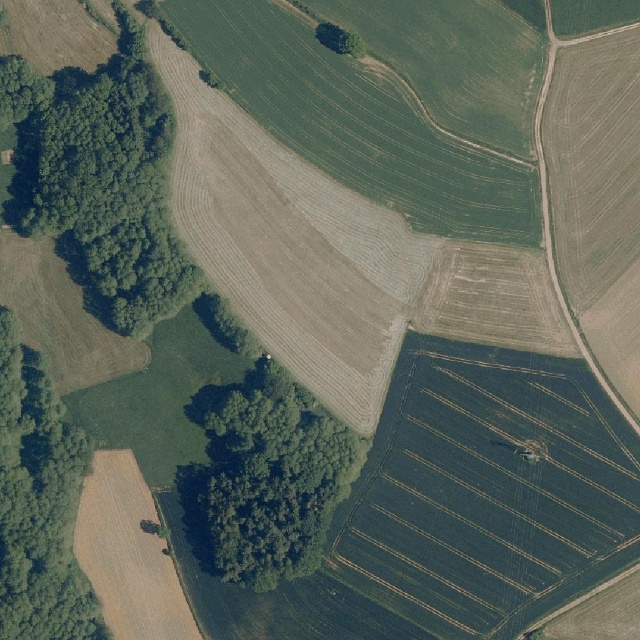vegetation: (0, 0, 258, 358), (185, 345, 368, 589), (0, 305, 106, 640), (325, 29, 362, 58)
